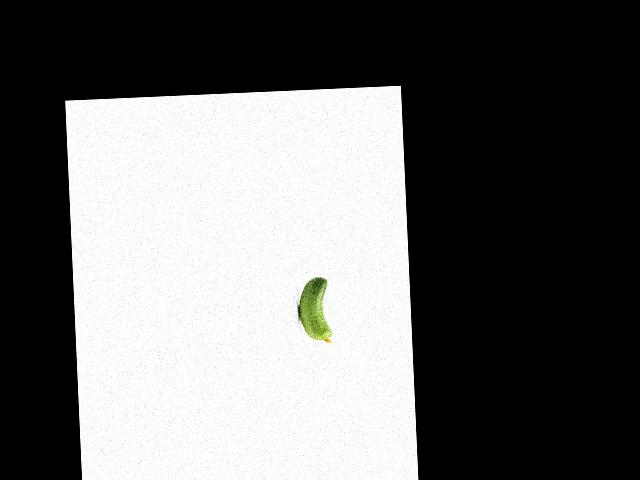cucumber: (296, 276, 332, 344)
